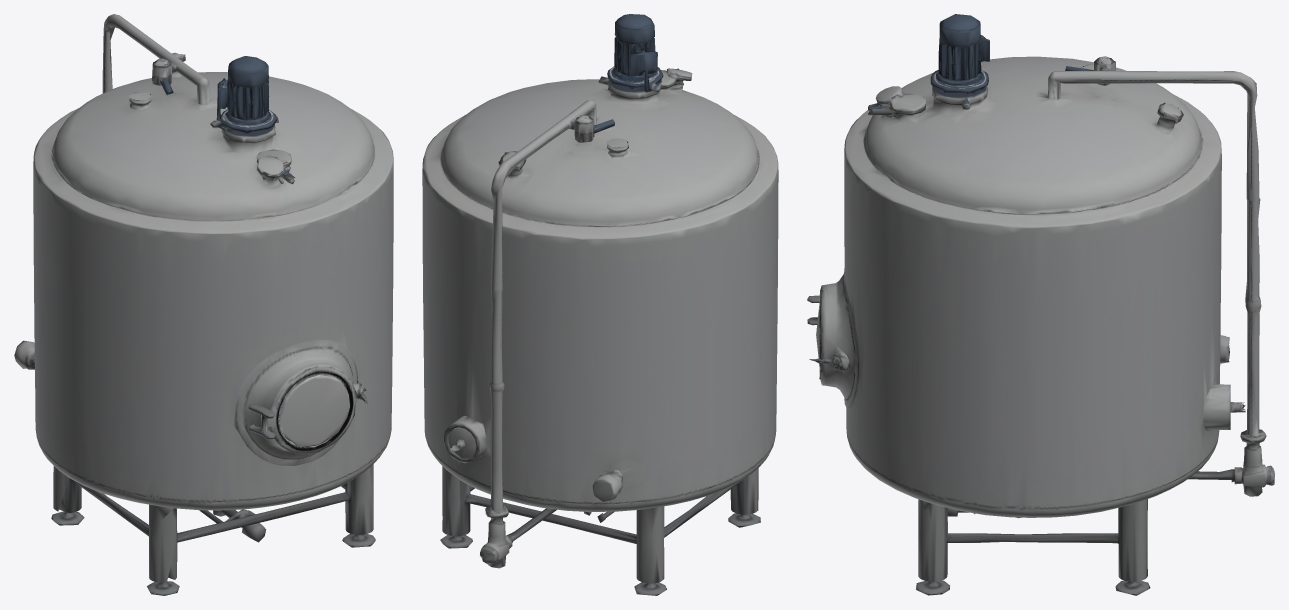
File: mixing_tank_closed.fbx
3 renders of one model, left to right at view 1: azimuth 30°, elevation 25°; view 2: azimuth 150°, elevation 25°; view 3: azimuth 270°, elevation 25°, orthographic. The views are drawn at different scales.
Visible parts, largest first — view 1: tripo_node_7aa3cd8f; view 2: tripo_node_7aa3cd8f; view 3: tripo_node_7aa3cd8f.
Part boxes in pixels (<box>): tripo_node_7aa3cd8f: <box>14,14,393,595</box>; tripo_node_7aa3cd8f: <box>422,14,778,595</box>; tripo_node_7aa3cd8f: <box>807,14,1274,595</box>.
Size of the model in its own units: 0.646 by 0.9785 by 0.7975.
